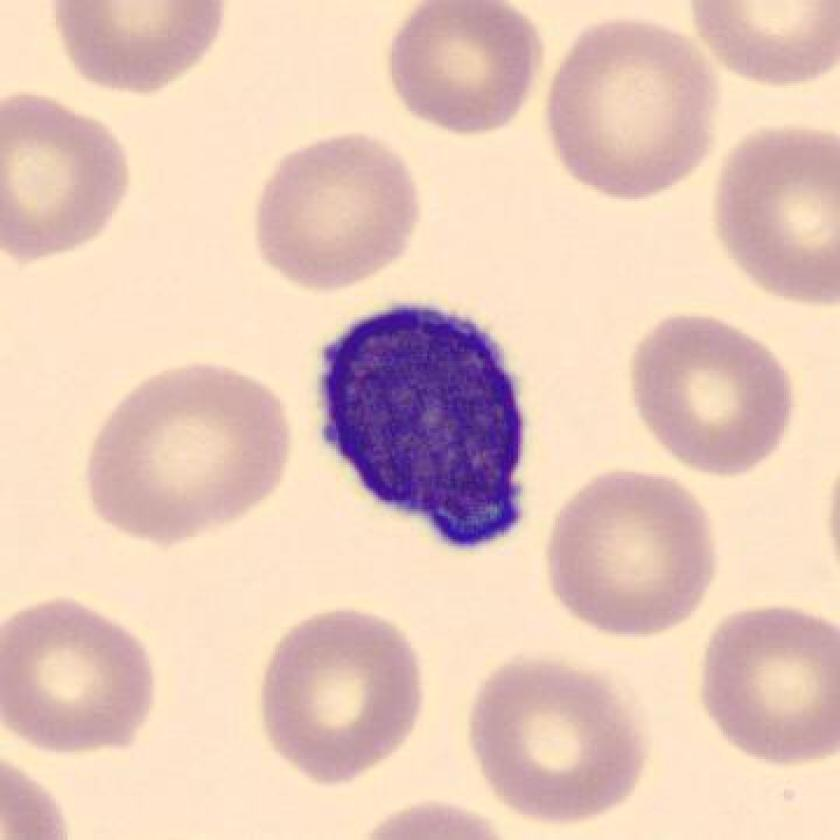lymphocyte: (298, 288, 550, 566)
